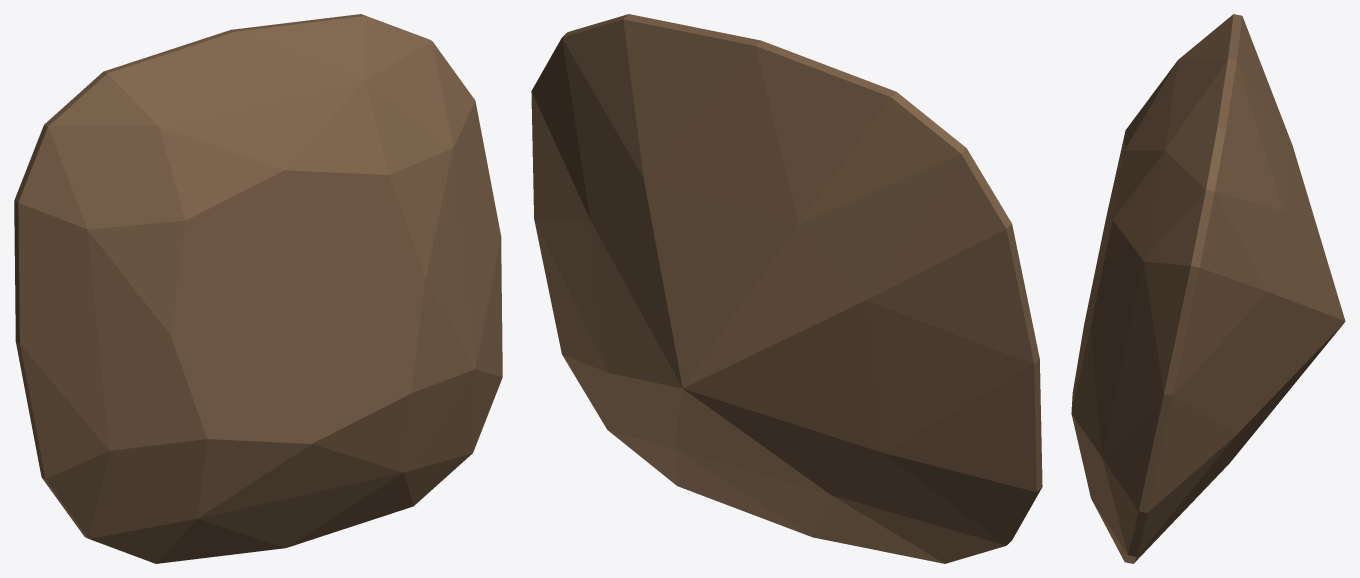
File: smoky-quartz.glb
3 renders of one model, left to right at view 1: azimuth 30°, elevation 25°; view 2: azimuth 150°, elevation 25°; view 3: azimuth 270°, elevation 25°, orthographic. The views are drawn at different scales.
Parts seen in each view (by area): view 1: smoky-quartz; view 2: smoky-quartz; view 3: smoky-quartz.
Boxes of the visible parts, left/top/right/bottom form: smoky-quartz: left=14, top=14, right=502, bottom=563; smoky-quartz: left=531, top=14, right=1042, bottom=563; smoky-quartz: left=1071, top=14, right=1345, bottom=563.
Bounding box in the file's own units: 2.3 × 2.27 × 1.23.
